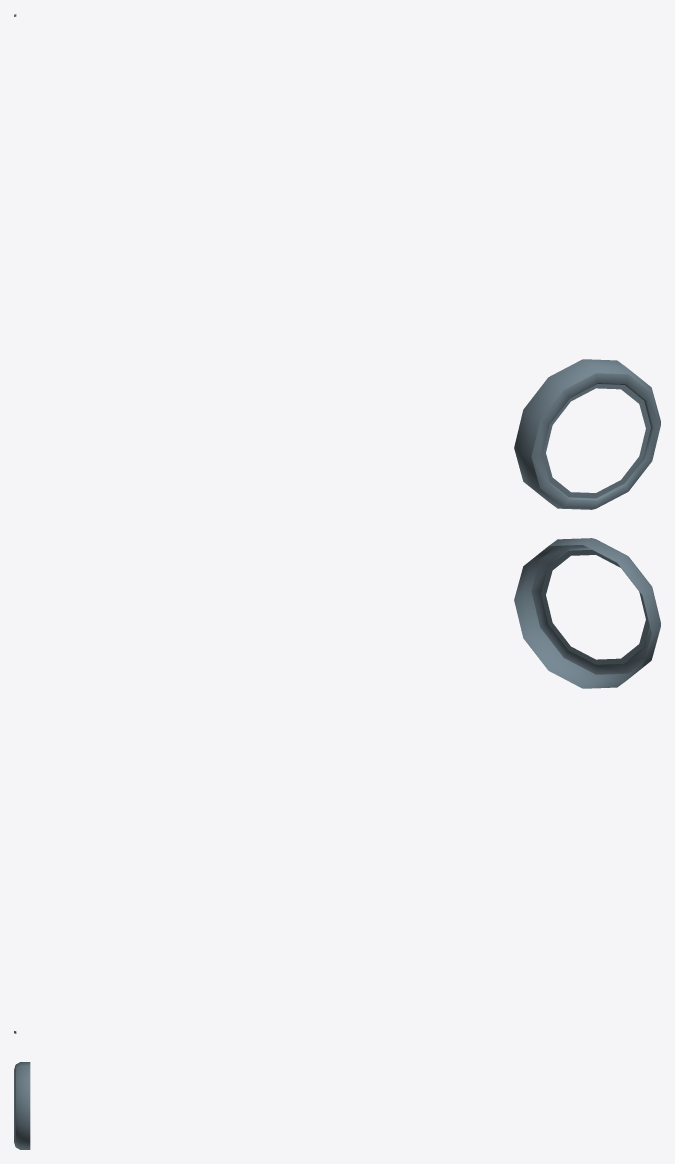
File: AlarmClockButton_29_AlarmClockButton_29_1_GeomSubset_1.obj
3 views of the same model, one above another, from view 1: azimuth 30°, elevation 25°; view 2: azimuth 150°, elevation 25°; view 3: azimuth 270°, elevation 25° (orthographic). The views are drawn at different scales.
Parts seen in each view (by area): view 1: AlarmClockButton_29_AlarmClockButton_29_1_GeomSubset_1; view 2: AlarmClockButton_29_AlarmClockButton_29_1_GeomSubset_1; view 3: AlarmClockButton_29_AlarmClockButton_29_1_GeomSubset_1.
Boxes of the visible parts, x1=… form: AlarmClockButton_29_AlarmClockButton_29_1_GeomSubset_1: x1=14, y1=14, x2=660, y2=509; AlarmClockButton_29_AlarmClockButton_29_1_GeomSubset_1: x1=14, y1=538, x2=660, y2=1033; AlarmClockButton_29_AlarmClockButton_29_1_GeomSubset_1: x1=14, y1=1062, x2=30, y2=1149.
Bounding box in the file's own units: 0.0577 × 0.0577 × 0.423.
